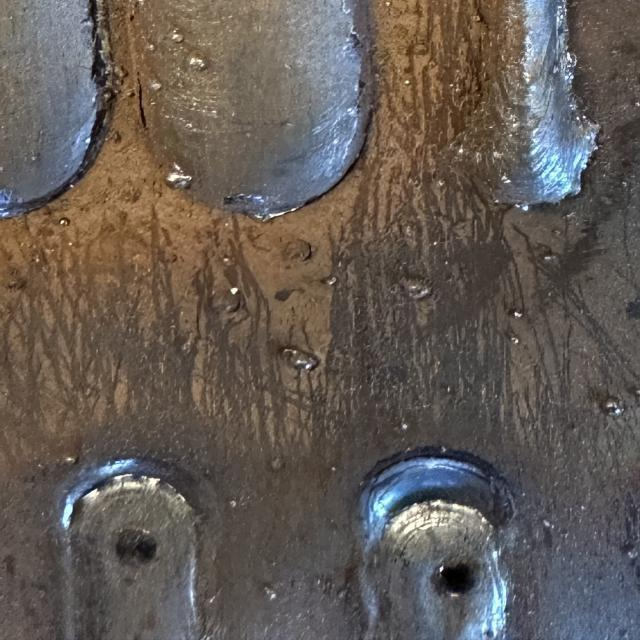Excess Reinforcement: (360, 448, 513, 538), (555, 51, 600, 199), (65, 458, 197, 504), (453, 109, 488, 182), (90, 0, 110, 75)
Spatters: (282, 349, 320, 371), (282, 239, 313, 261), (167, 164, 192, 189), (403, 280, 432, 299), (600, 398, 625, 418), (112, 60, 128, 90), (30, 461, 53, 474), (188, 56, 207, 70), (270, 456, 285, 471), (100, 89, 115, 101), (148, 79, 162, 91), (170, 30, 183, 42), (63, 455, 78, 465), (7, 281, 22, 290), (120, 89, 135, 98), (323, 276, 337, 285), (222, 256, 233, 266), (58, 218, 70, 226), (268, 589, 277, 599), (400, 422, 408, 431), (228, 500, 237, 507), (502, 175, 510, 182), (513, 312, 522, 318), (512, 338, 520, 344), (130, 10, 134, 21)
